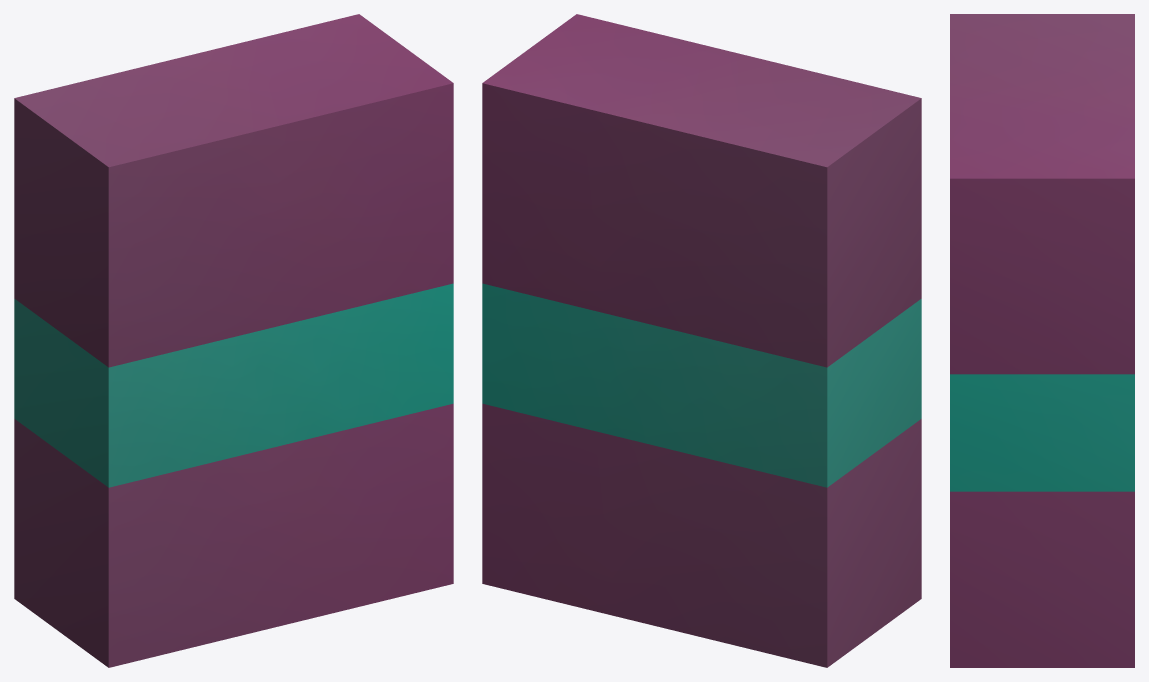
Rendered from Ürün43.fbx.
The picture shows the model from 3 angles, left to right: view 1: azimuth 30°, elevation 25°; view 2: azimuth 150°, elevation 25°; view 3: azimuth 270°, elevation 25°; orthographic projection. The views are drawn at different scales.
Visible parts, largest first — view 1: pCube83; view 2: pCube83; view 3: pCube83.
Boxes of the visible parts, box(x1,y1,x2,y2) form: pCube83: box(14, 14, 453, 667); pCube83: box(482, 14, 921, 667); pCube83: box(950, 14, 1134, 667).
Bounding box in the file's own units: 23.51 × 32.6 × 11.16.
